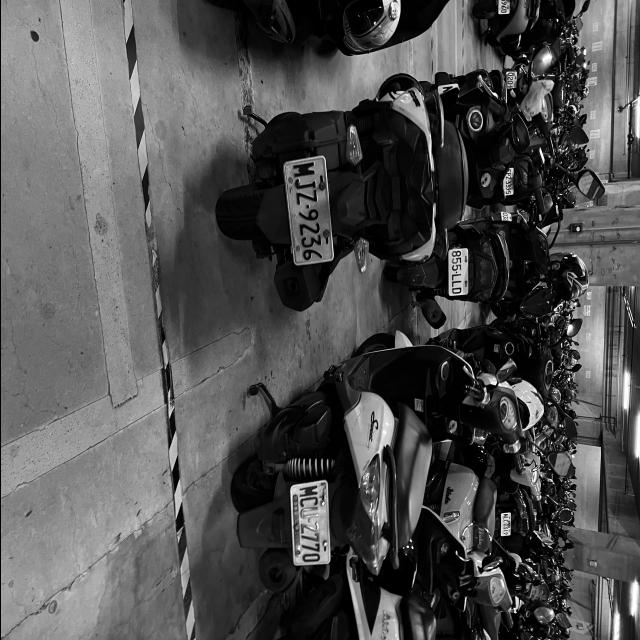-: (305, 204, 309, 209), (307, 518, 311, 522), (455, 272, 457, 274), (508, 85, 510, 86), (506, 180, 508, 180)
0: (302, 553, 320, 563), (500, 9, 506, 13), (507, 72, 512, 76), (507, 80, 512, 84), (502, 213, 508, 216)
2: (298, 222, 321, 238), (300, 522, 318, 534), (507, 76, 512, 80)
3: (300, 234, 322, 249), (505, 184, 510, 188), (504, 181, 510, 184), (502, 216, 507, 218)
5: (451, 264, 461, 271), (451, 258, 461, 264), (504, 190, 510, 194)
6: (301, 249, 322, 261), (500, 6, 506, 10)
7: (300, 542, 320, 552), (300, 533, 319, 543)
8: (450, 251, 460, 257)
9: (296, 208, 319, 222), (500, 2, 506, 4), (504, 188, 510, 190)
C: (297, 485, 318, 498), (298, 496, 318, 508)
D: (451, 287, 461, 294)
J: (293, 176, 316, 192)
L: (451, 280, 461, 288), (450, 274, 460, 281)
M: (292, 161, 316, 179)
U: (299, 506, 318, 520)
Z: (295, 189, 317, 207), (504, 176, 510, 180)
plate: (283, 156, 331, 262), (291, 483, 328, 566), (448, 248, 466, 296)
